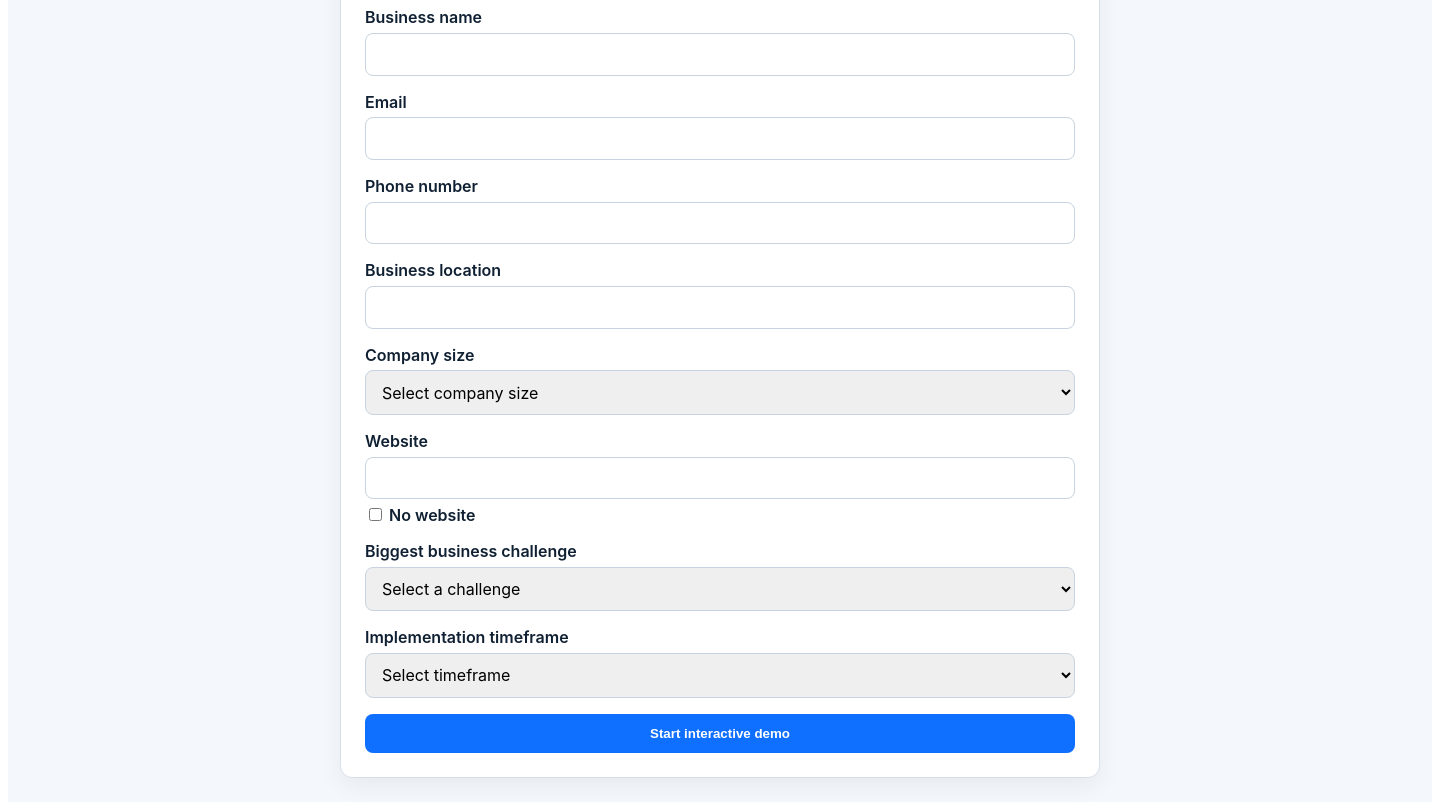
Scenario: QualificationPage › validates required fields before starting demo
(page scrolled)
Click the button "Start interactive demo".
click(720, 733)  # box [365,714,1075,753]
(page scrolled)
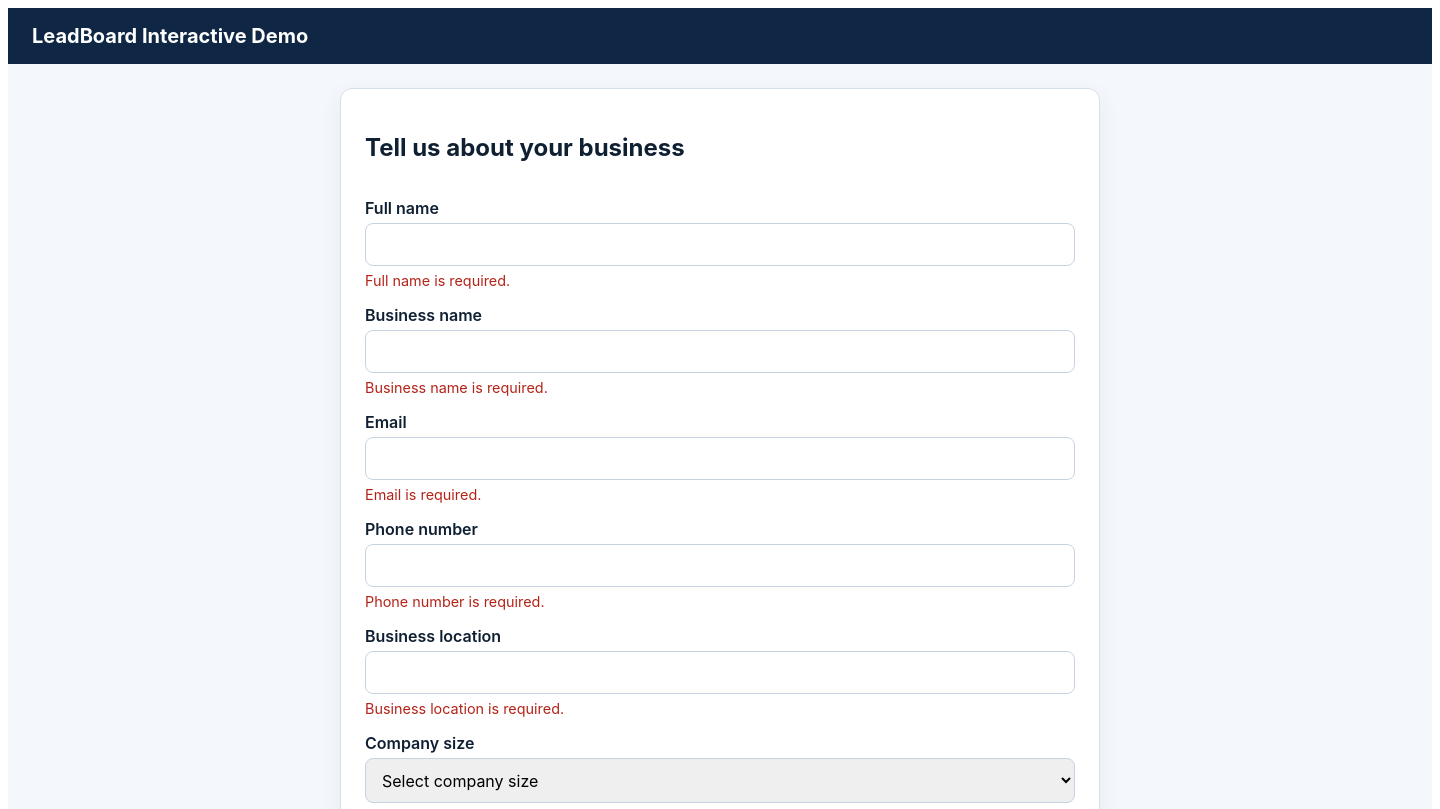
Now the text "Full name is required." is shown, box [365,272,510,289]
